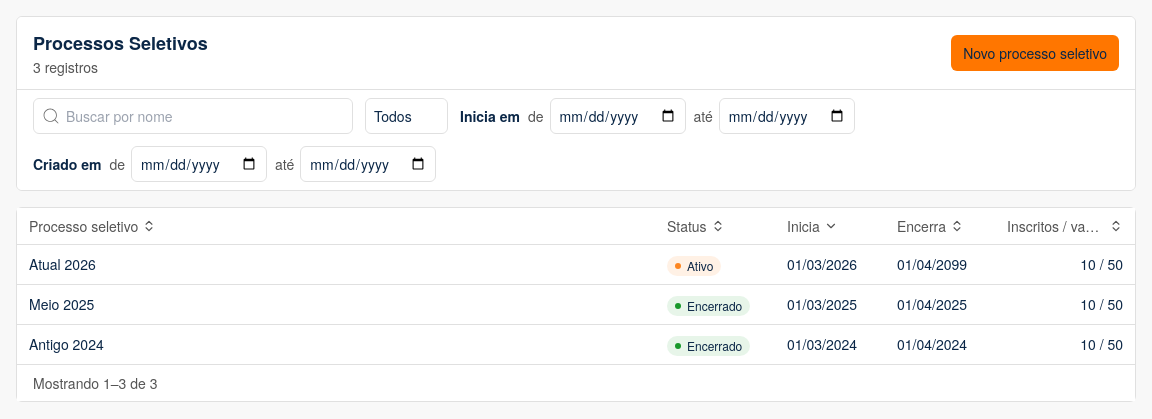
Test case: Processos Seletivos na Dash V2 (tickets/021 card 04) › filtros por nome, Inicia em e Criado em (card 05) › busca por nome, sem acento — e a contagem mostra 'x de y'
Check: the text "Atual 2026" is shown, box left=29, top=254, right=96, bottom=274
In the search field labelled "Buscar por nome": (193, 116) left=33, top=98, right=353, bottom=134, type "atual"
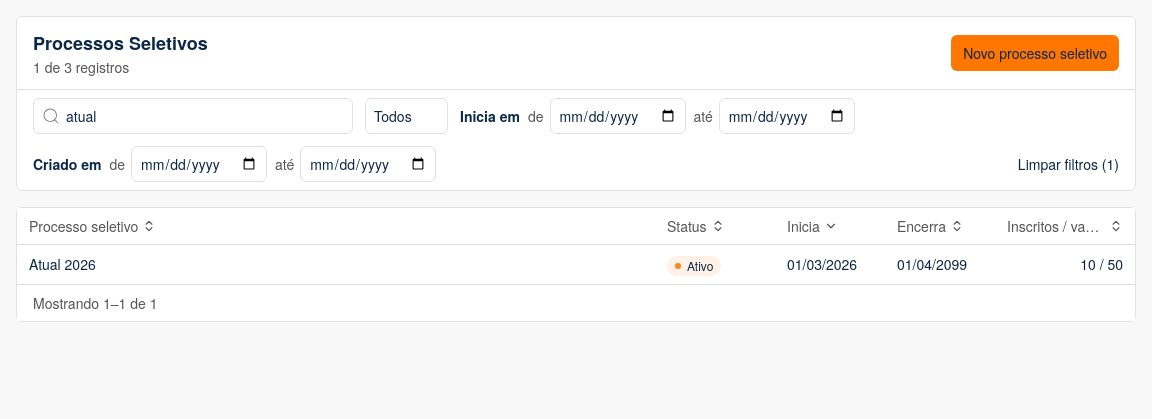
Check: the text "1 de 3 registros" is shown, box left=33, top=57, right=129, bottom=77
